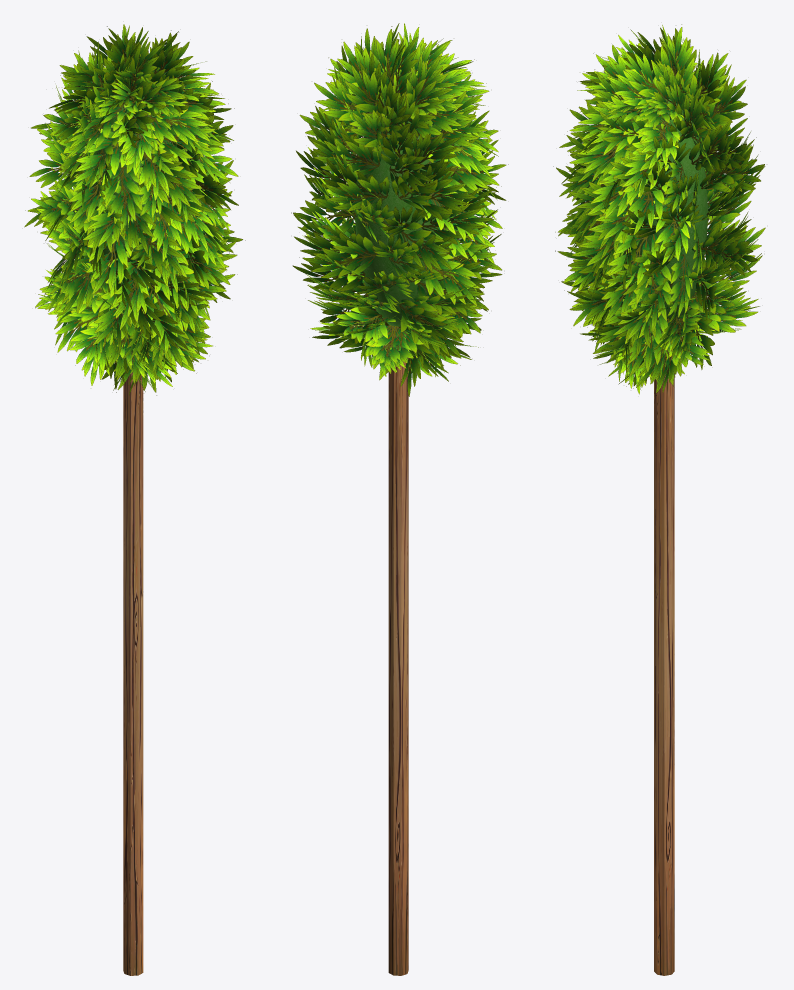
Rendered from eucalipto2.glb.
3 renders of one model, left to right at view 1: azimuth 30°, elevation 25°; view 2: azimuth 150°, elevation 25°; view 3: azimuth 270°, elevation 25°, orthographic.
Parts seen in each view (by area): view 1: Mesh (2) (×48), Mesh_tronco_0, base; view 2: Mesh (2) (×48), Mesh_tronco_0, base; view 3: Mesh (2) (×53), Mesh_tronco_0, base.
Part boxes in pixels (<box>): Mesh (2) (×48): <box>29,35,238,377</box>; Mesh_tronco_0: <box>123,372,143,975</box>; base: <box>90,92,176,313</box>; Mesh (2) (×48): <box>291,26,501,367</box>; Mesh_tronco_0: <box>388,325,408,975</box>; base: <box>355,102,442,326</box>; Mesh (2) (×53): <box>555,24,765,387</box>; Mesh_tronco_0: <box>654,356,674,975</box>; base: <box>621,96,707,323</box>.
Bounding box in the file's own units: 146 × 652 × 146.
Materials: 3 (3 with a texture image).
